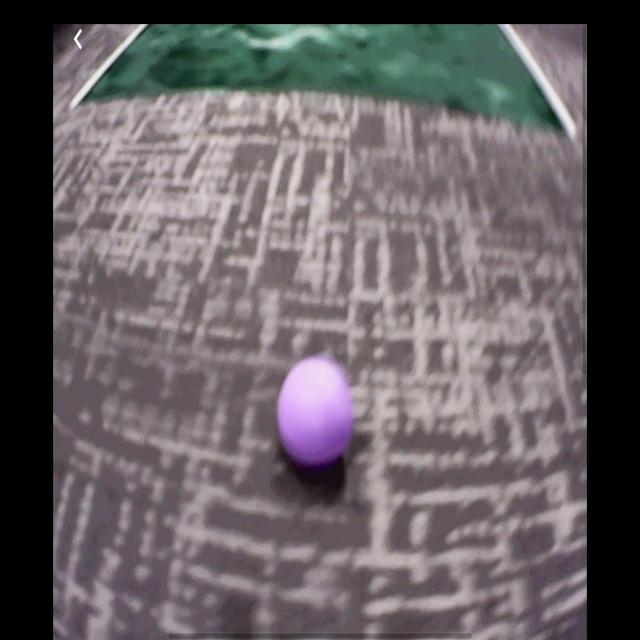ball: (278, 353, 356, 471)
